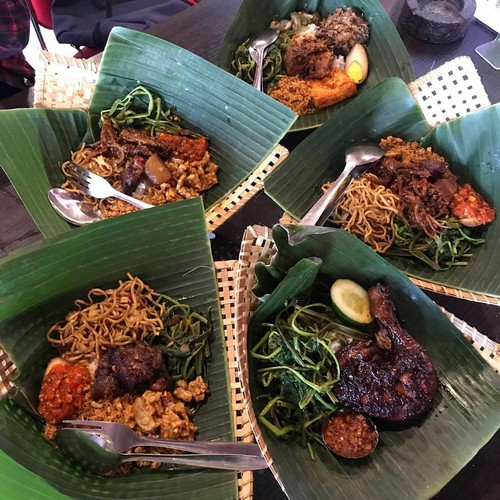nasi jinggo: (51, 271, 214, 417)
